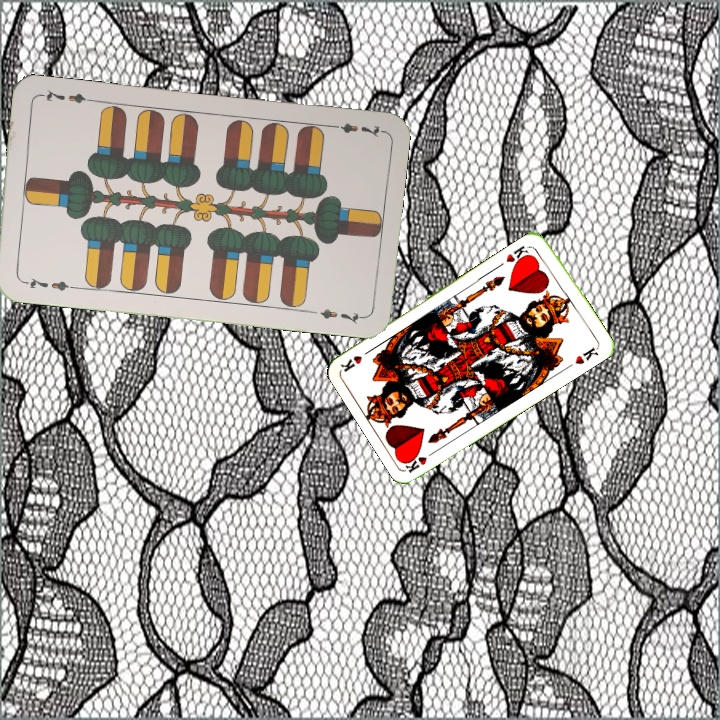E7: (18, 273, 77, 294), (325, 119, 384, 140)
HK: (401, 446, 440, 475), (502, 241, 535, 269)
